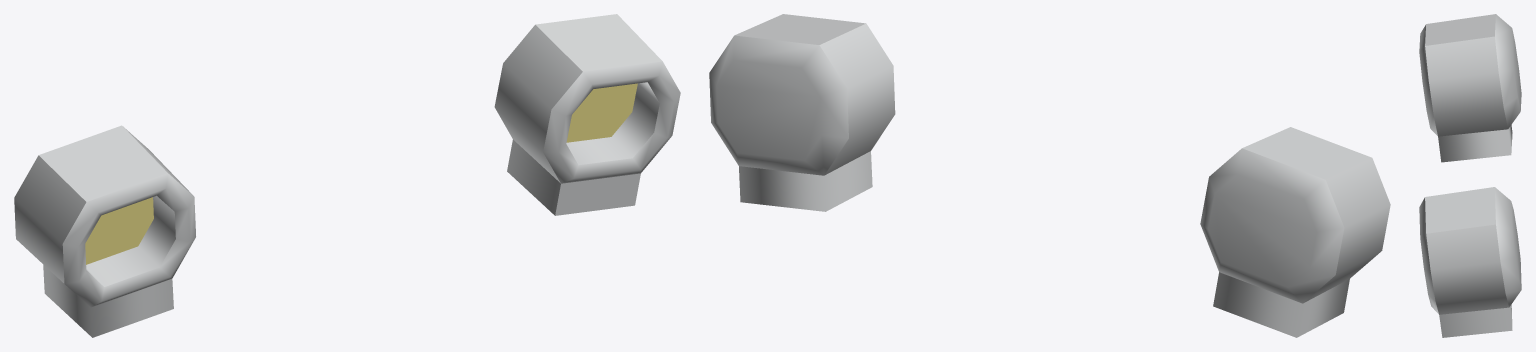
Rendered from Car_09_FogLight.fbx.
The picture shows the model from 3 angles, left to right: view 1: azimuth 30°, elevation 25°; view 2: azimuth 150°, elevation 25°; view 3: azimuth 270°, elevation 25°; orthographic projection. The views are drawn at different scales.
Visible parts, largest first — view 1: Car_09_FogLight; view 2: Car_09_FogLight; view 3: Car_09_FogLight.
Part boxes in pixels (box(x1,y1,x2,y2)): Car_09_FogLight: box(14, 14, 680, 337); Car_09_FogLight: box(709, 14, 1390, 337); Car_09_FogLight: box(1419, 14, 1521, 337).
Bounding box in the file's own units: 75.25 × 14.4 × 19.8.
